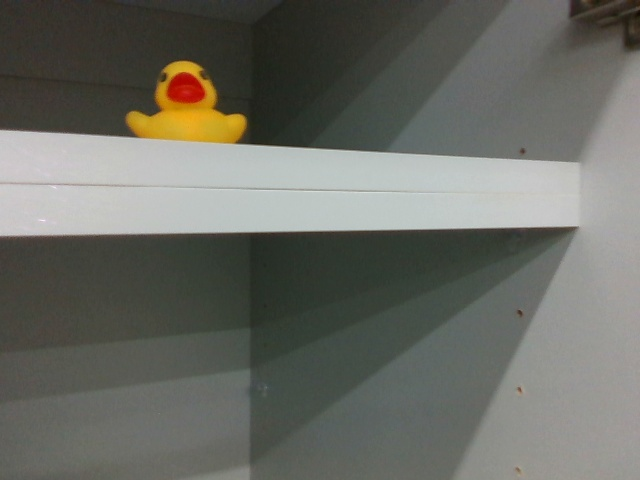duck: (121, 55, 251, 146)
